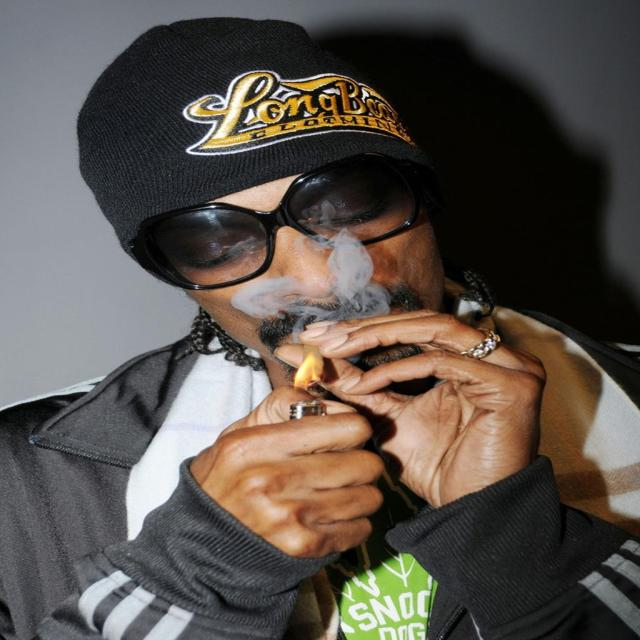smoking: (132, 106, 630, 464)
